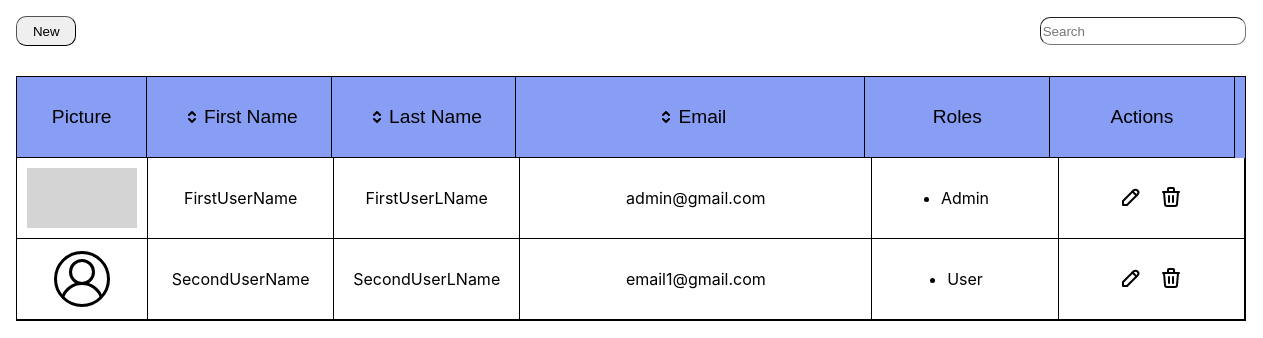
Scenario: search user › only finded user should be displayed in table
Type "FirstUserName" into the field with placeholder "Search" at (1143, 31), box left=1040, top=17, right=1246, bottom=45
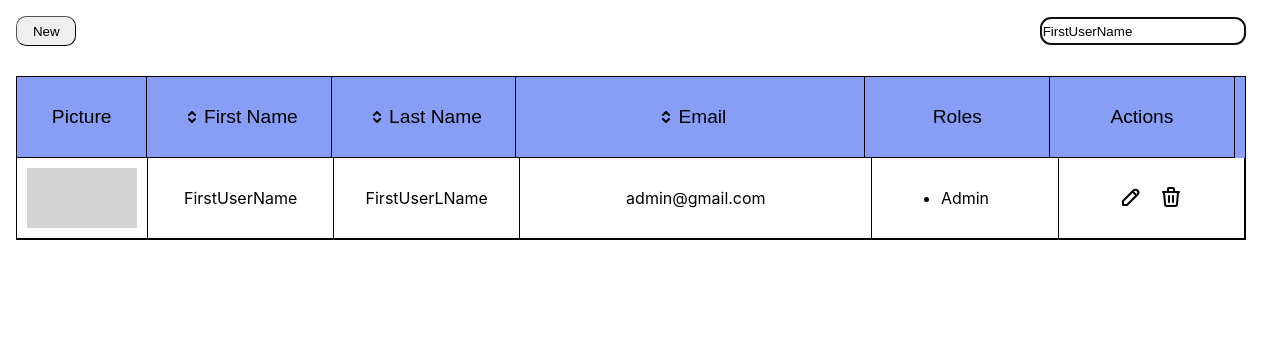
Expected: the text "FirstUserName" is shown, left=148, top=158, right=334, bottom=239
Expected: the text "SecondUserName" is gone
